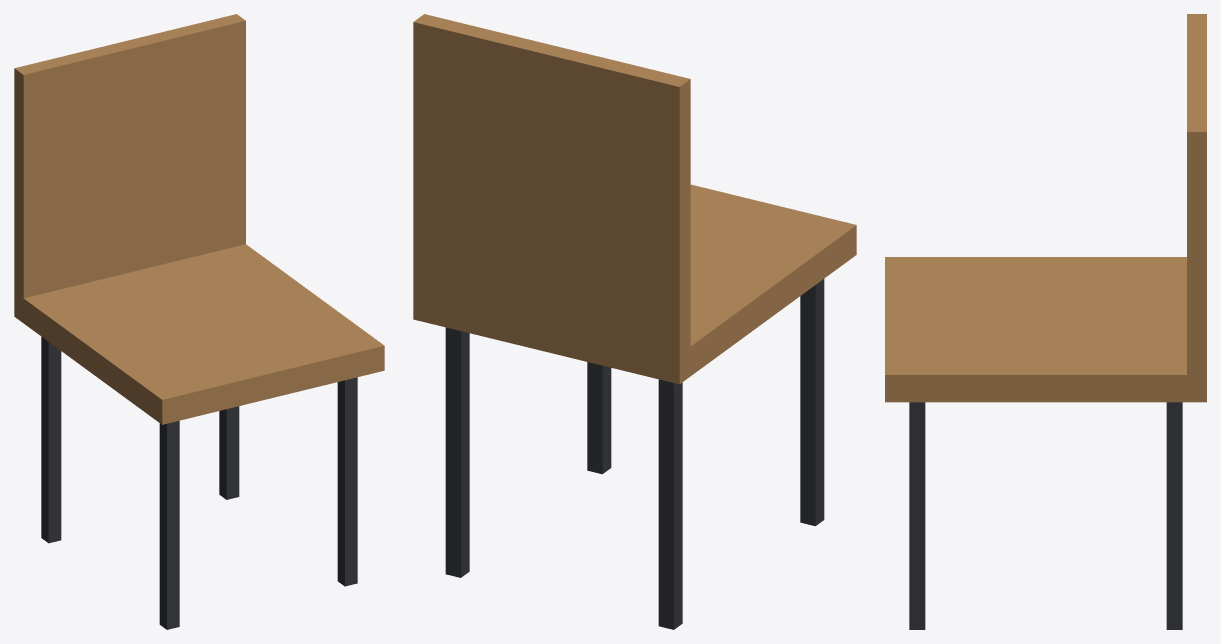
The model's file is chair_bistro_bentwood.glb.
The picture shows the model from 3 angles, left to right: view 1: azimuth 30°, elevation 25°; view 2: azimuth 150°, elevation 25°; view 3: azimuth 270°, elevation 25°; orthographic projection. The views are drawn at different scales.
Size of the model in its own units: 0.4191 by 0.8382 by 0.4826.
